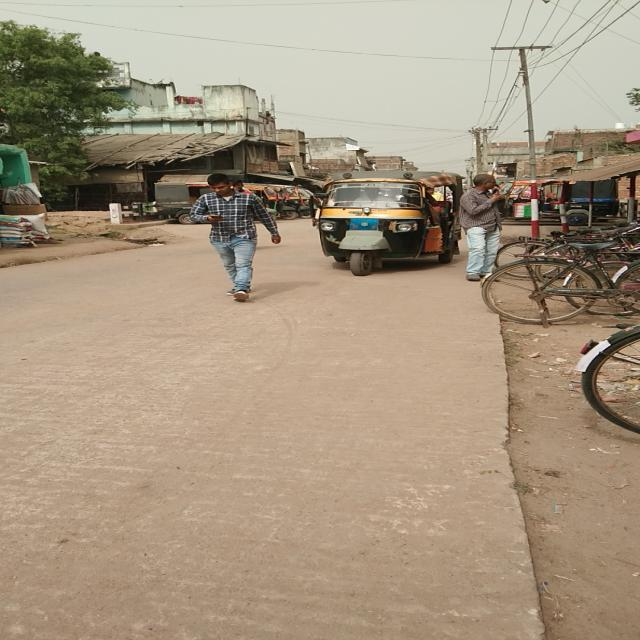tempo: (317, 168, 463, 272), (148, 178, 276, 224), (498, 178, 621, 222), (240, 184, 297, 220), (264, 182, 314, 220), (294, 186, 326, 213)
